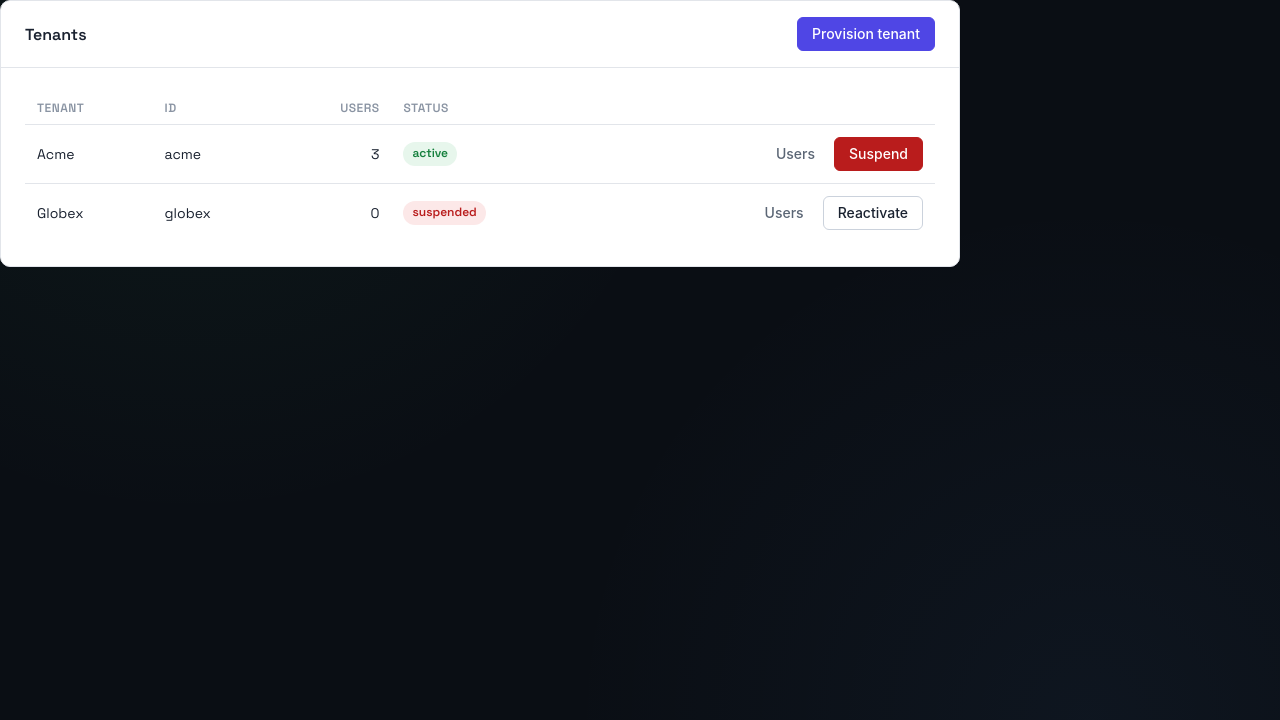
Test case: PlatformScreen drill (S98) › shows a drill error when the tenant users fail to load
expect the text "Acme" is shown: met, box [25,124,153,184]
Step 1. Click the button with test id "drill-acme" → (795, 154), box [761,137,830,171]
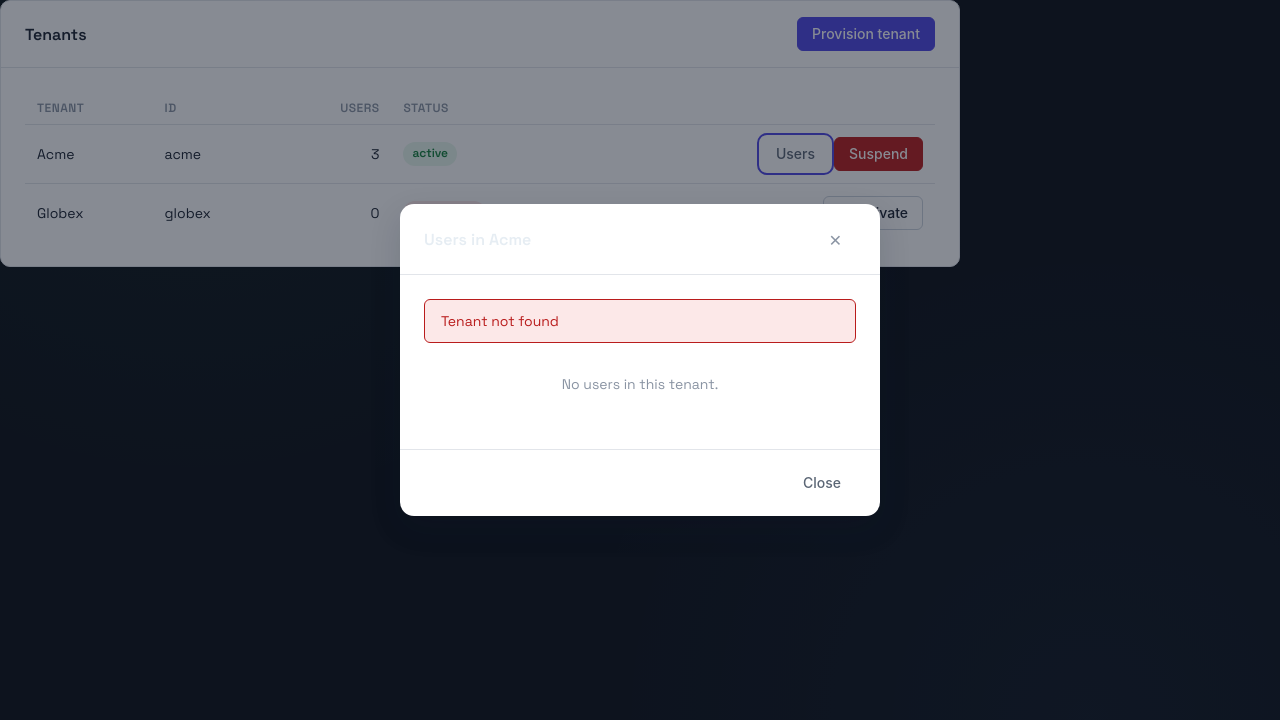
expect the message with test id "drill-error" reads "Tenant not found": met, box [441,312,559,330]
